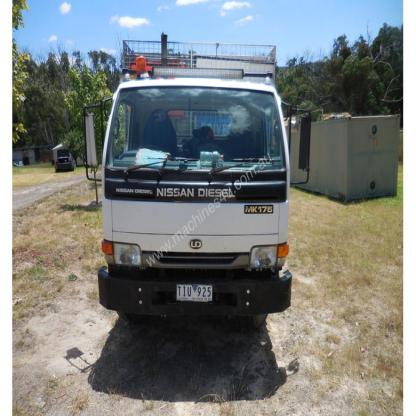dump_truck: (78, 26, 302, 335)
